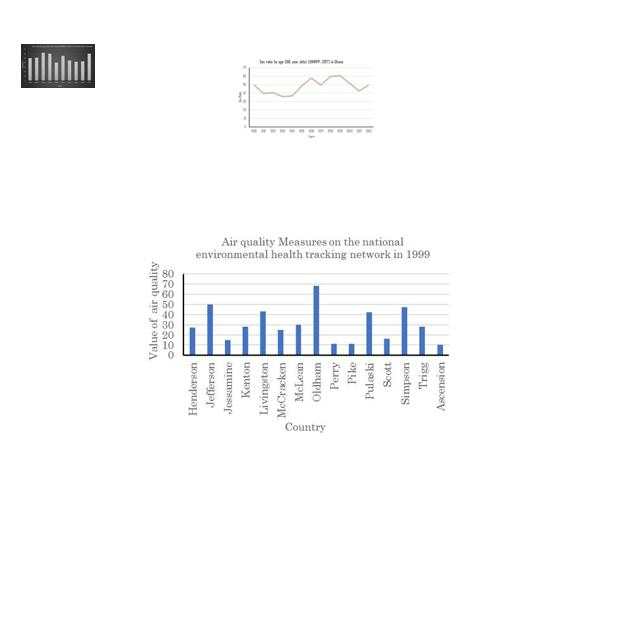Graph: (143, 231, 457, 442), (236, 57, 375, 140), (21, 44, 95, 88)
